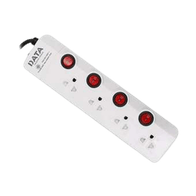Three_eye_plug: (20, 33, 182, 165)
